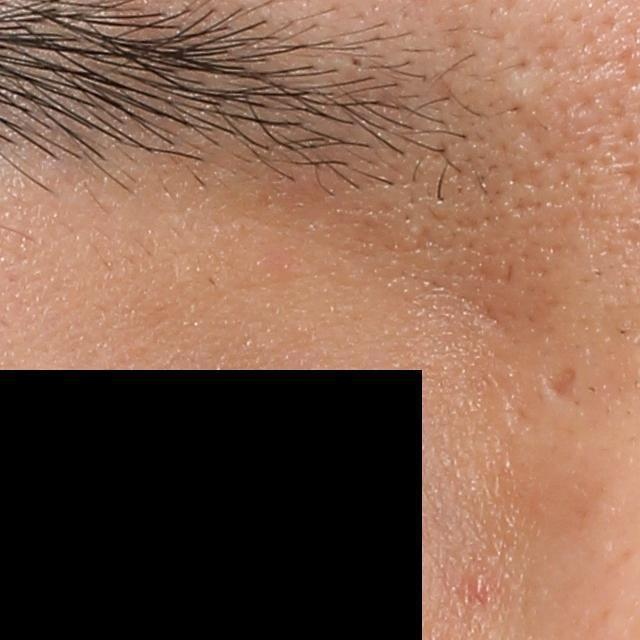atrophic_scar: (543, 365, 578, 402)
comedo: (345, 53, 369, 70)
hypertrophic_scar: (504, 71, 560, 118)
